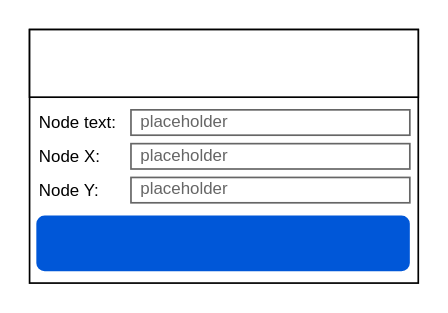
Image size: 448x313. Some labels were removed from this diagram. Here are the shapes that lost their labels. From the top down, the centre of each, then its label:
At point 223,62: "lab18_Lukyanov".
At point 222,242: "SAVE NODE".
